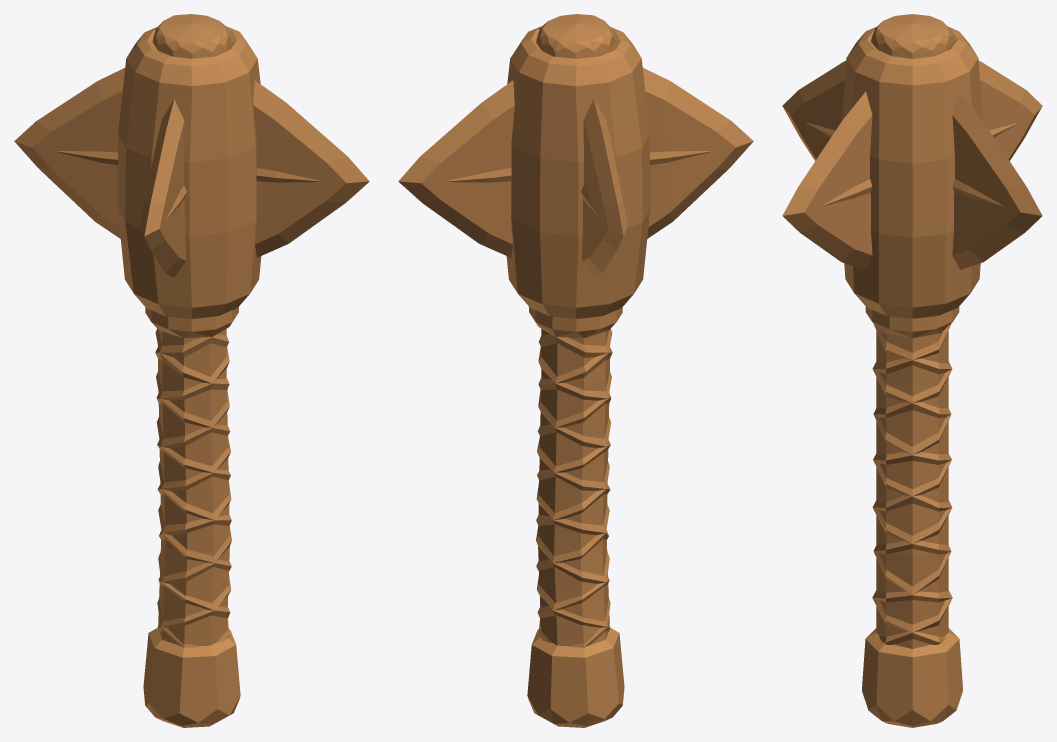
The model's file is Copper_Mace_Flat.fbx.
The picture shows the model from 3 angles, left to right: view 1: azimuth 30°, elevation 25°; view 2: azimuth 150°, elevation 25°; view 3: azimuth 270°, elevation 25°; orthographic projection.
Parts seen in each view (by area): view 1: Mace_Copper_Flat; view 2: Mace_Copper_Flat; view 3: Mace_Copper_Flat.
Boxes of the visible parts, <box> form: Mace_Copper_Flat: <box>14,14,369,727</box>; Mace_Copper_Flat: <box>398,14,753,727</box>; Mace_Copper_Flat: <box>782,14,1042,727</box>.
Size of the model in its own units: 0.759 by 2.22 by 0.759.
